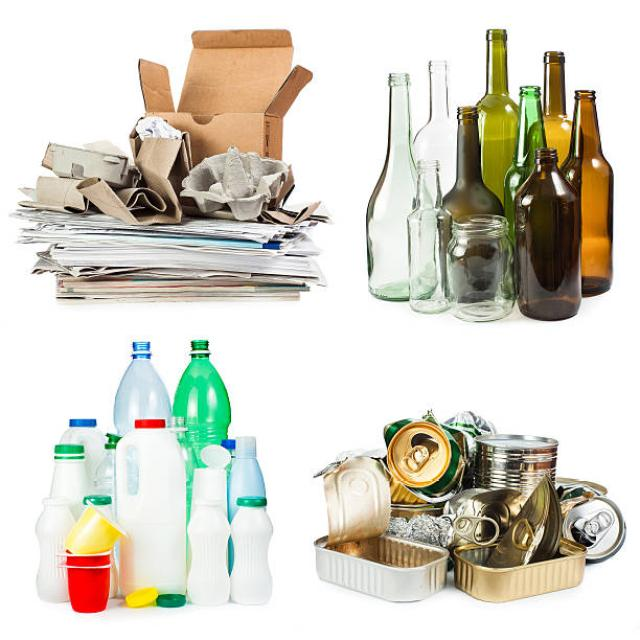cardboard: (21, 9, 307, 220)
glass: (372, 27, 615, 321)
metal: (306, 409, 622, 602)
paper: (35, 216, 300, 304)
plastic: (44, 334, 270, 617)
